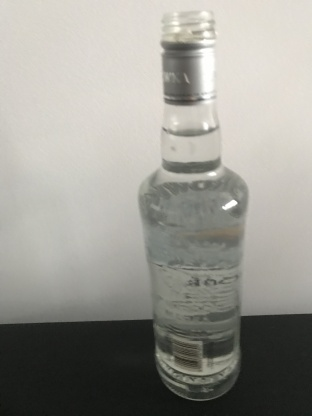nakretka: (158, 13, 218, 106)
